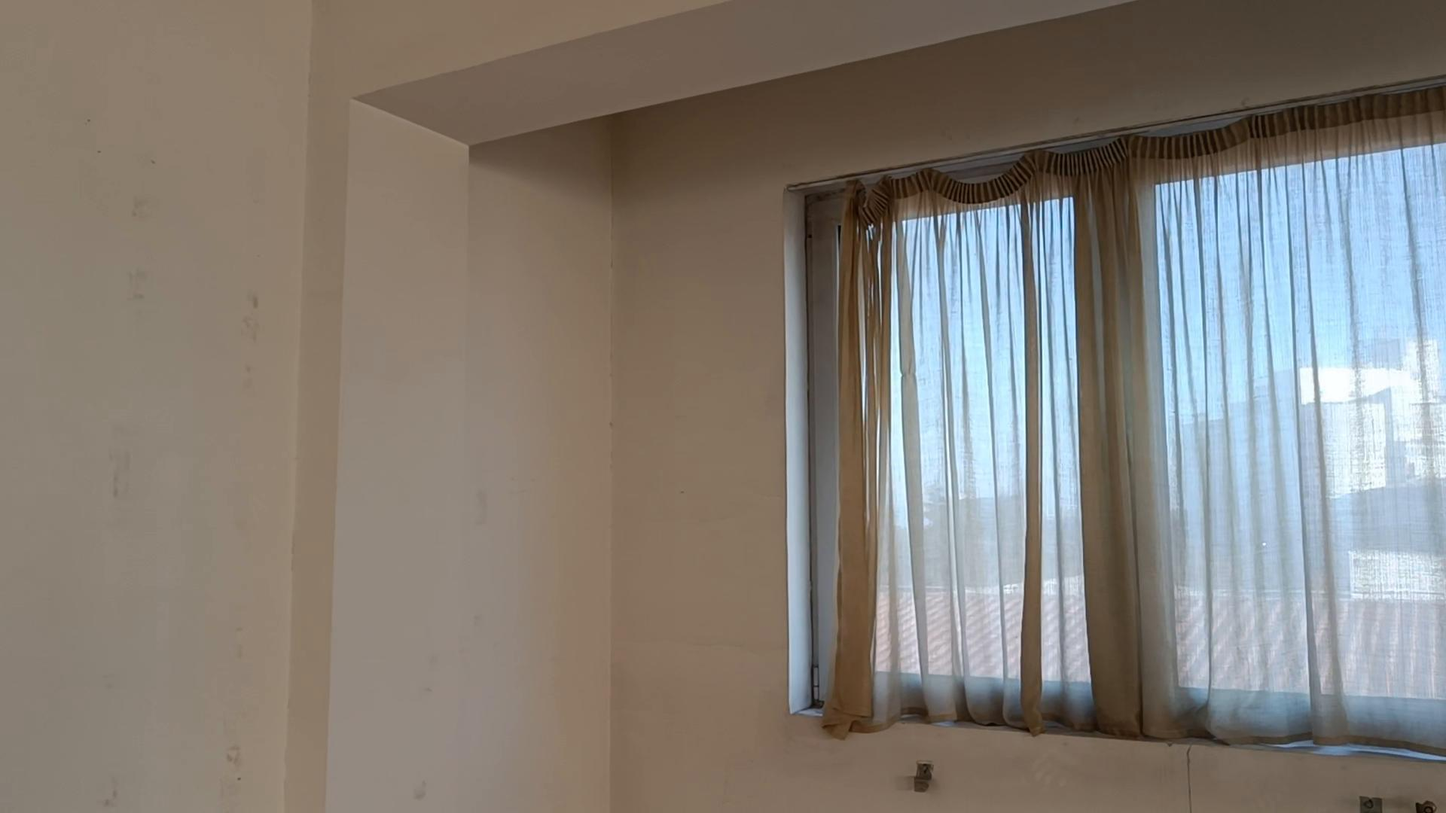ceiling: (355, 0, 1135, 145), (356, 0, 1129, 145)
wall: (0, 0, 1445, 812), (350, 25, 876, 147)
